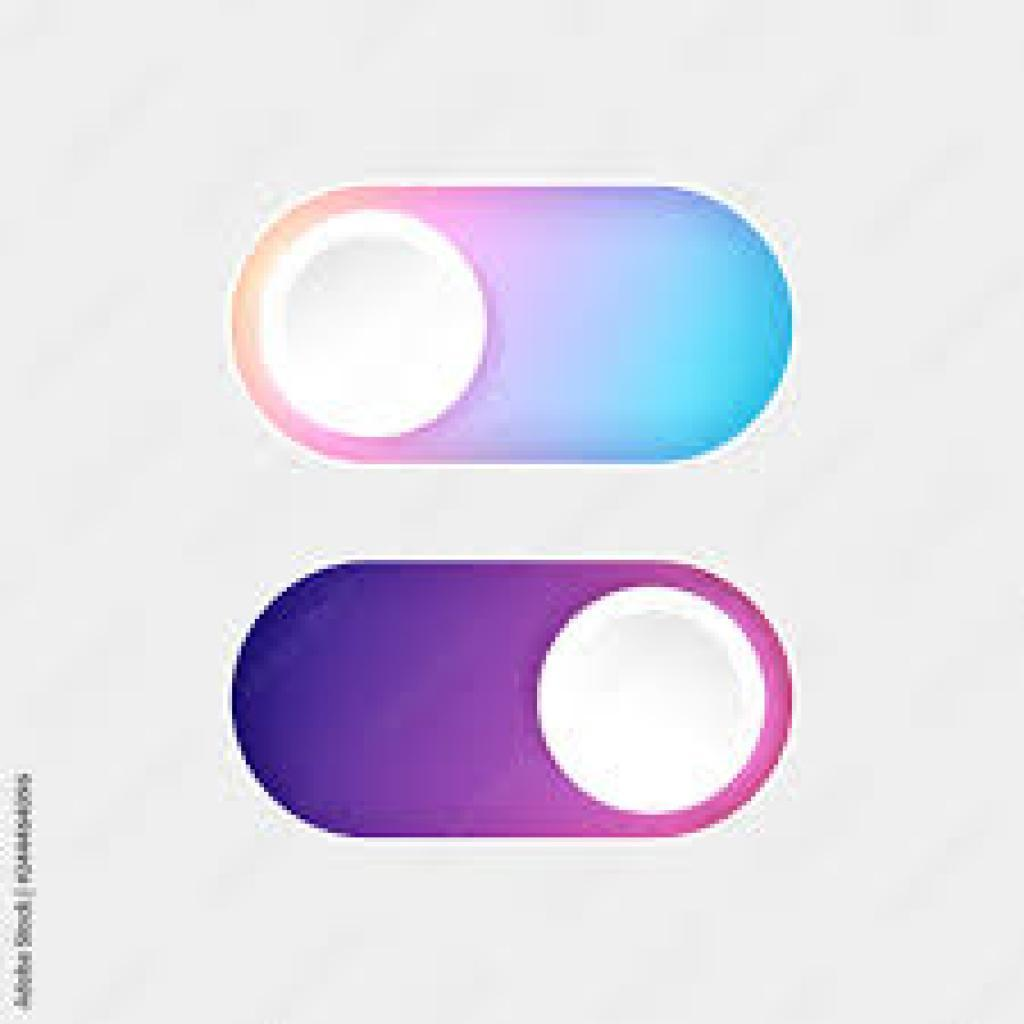switch: (231, 184, 798, 471), (230, 559, 796, 841)
